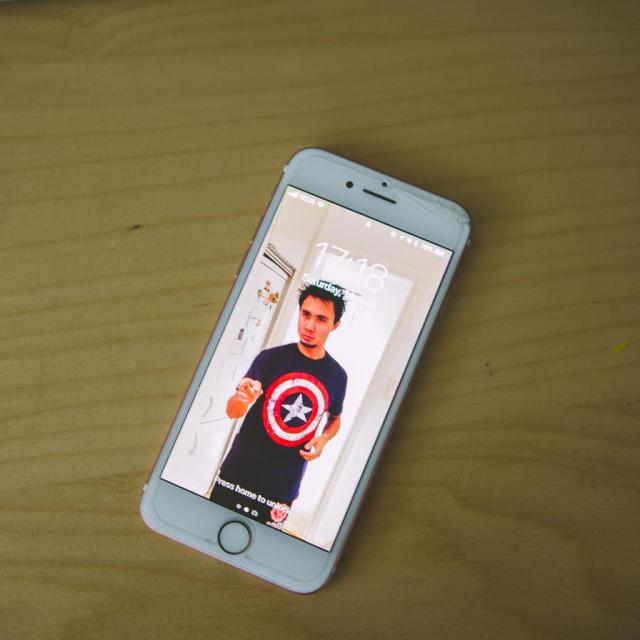Phone: (140, 142, 472, 596)
